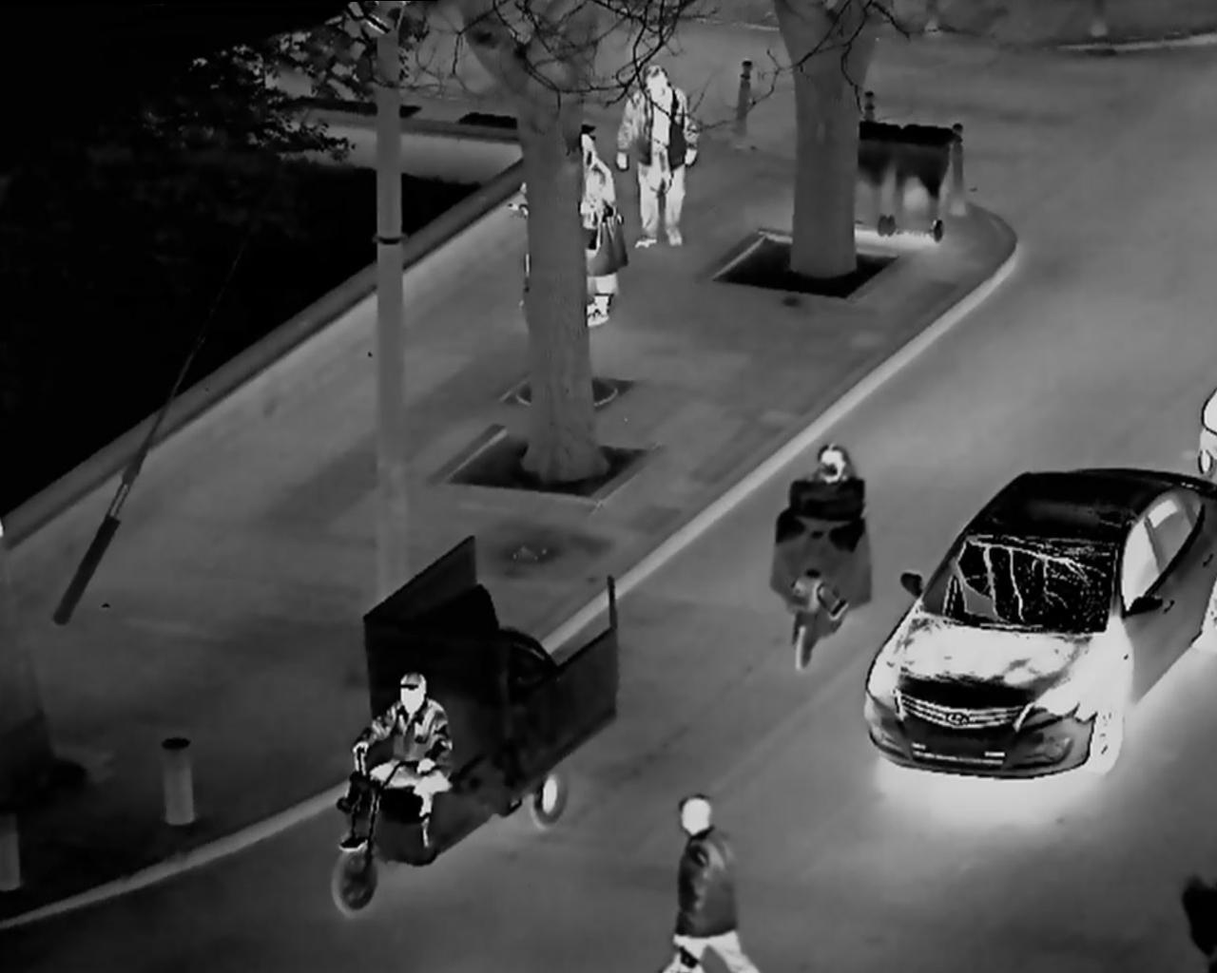person: (633, 784, 779, 973), (768, 433, 881, 667), (339, 659, 462, 859), (617, 49, 705, 258), (552, 122, 632, 327)
